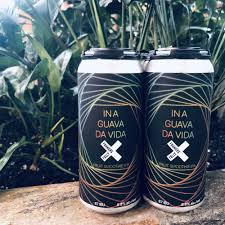can: (143, 47, 215, 214), (75, 48, 146, 212)
